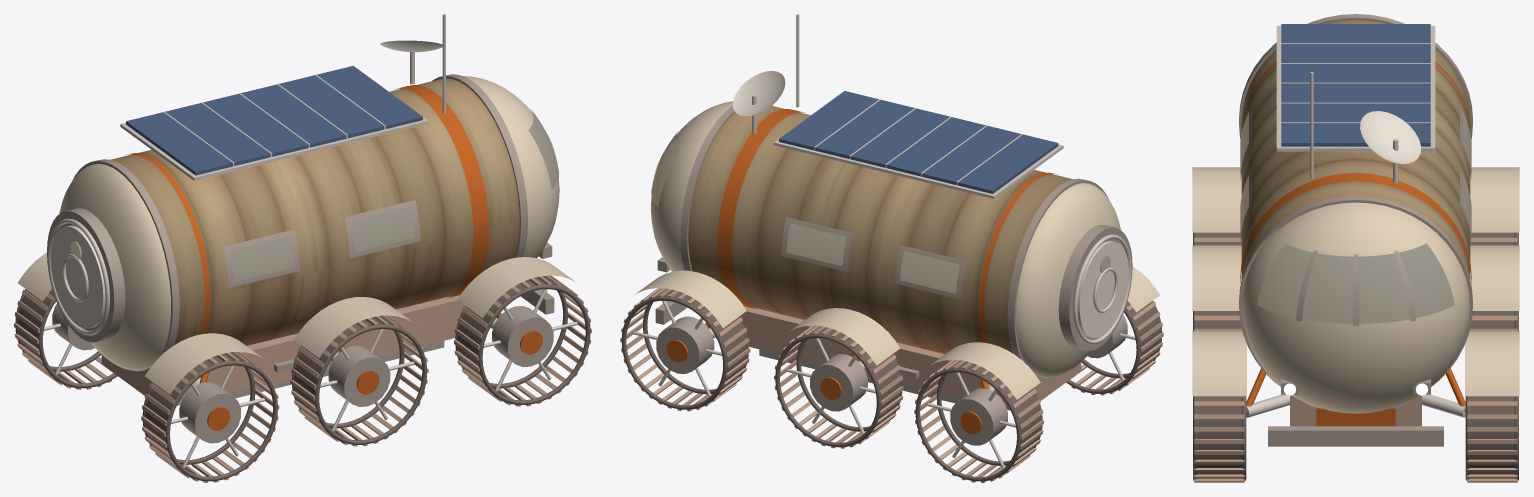
File: V02_pressurized_rover_tan_orange.glb
The picture shows the model from 3 angles, left to right: view 1: azimuth 30°, elevation 25°; view 2: azimuth 150°, elevation 25°; view 3: azimuth 270°, elevation 25°; orthographic projection. The views are drawn at different scales.
Parts seen in each view (by area): view 1: cabin, nose, chassis, windshield_post, dock_seal, windshield; view 2: cabin, nose, chassis, windshield_post, dock_seal, windshield, dish; view 3: nose, chassis, cabin, windshield, windshield_post, dock_seal, dish.
Part boxes in pixels (box(x1,y1,x2,y2)): cabin: box(110, 78, 519, 345); nose: box(15, 76, 590, 481); chassis: box(14, 65, 591, 482); windshield_post: box(47, 74, 555, 443); dock_seal: box(44, 14, 577, 467); windshield: box(70, 109, 558, 281); cabin: box(688, 106, 1072, 353); nose: box(621, 101, 1162, 481); chassis: box(620, 91, 1163, 482); windshield_post: box(655, 105, 1132, 445); dock_seal: box(633, 14, 1135, 468); windshield: box(651, 131, 1110, 293); dish: box(732, 71, 785, 116); nose: box(1192, 61, 1519, 480); chassis: box(1194, 24, 1517, 482); cabin: box(1241, 20, 1470, 279); windshield: box(1240, 112, 1471, 323); windshield_post: box(1239, 14, 1472, 446); dock_seal: box(1246, 25, 1465, 417); dish: box(1360, 111, 1420, 163).
Bounding box in the file's own units: 6.59 × 4.83 × 3.72.
8 materials, 1 textured.
